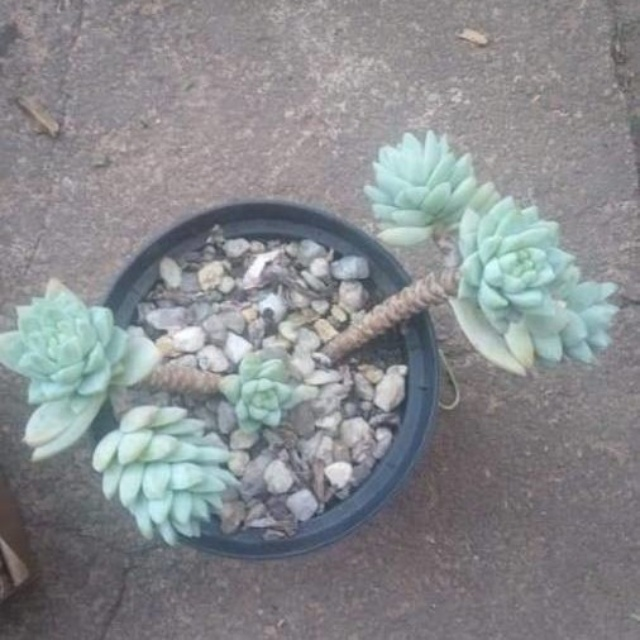obstacle: (39, 110, 496, 538)
